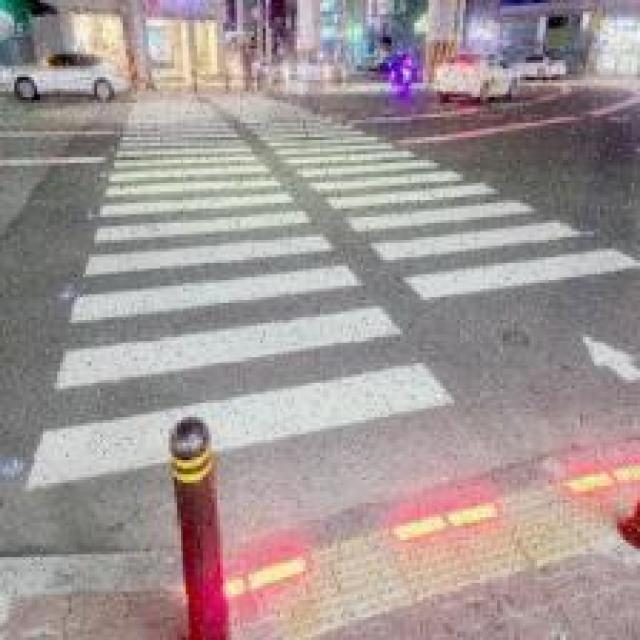walk-crossing: (30, 92, 640, 523)
